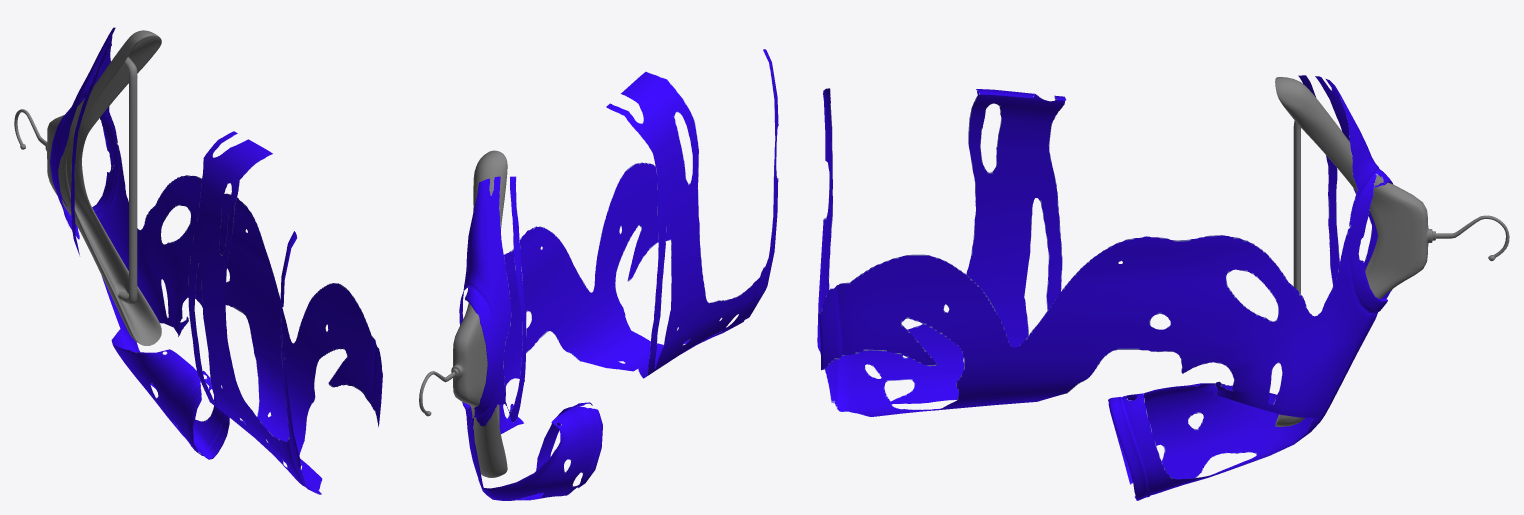
File: shirt.fbx
The picture shows the model from 3 angles, left to right: view 1: azimuth 30°, elevation 25°; view 2: azimuth 150°, elevation 25°; view 3: azimuth 270°, elevation 25°; orthographic projection. The views are drawn at different scales.
Visible parts, largest first — view 1: Shirt; view 2: Shirt; view 3: Shirt.
Part boxes in pixels (x1,y1,x2,y2): Shirt: (14, 27, 382, 494); Shirt: (419, 49, 778, 500); Shirt: (817, 75, 1509, 500).
Size of the model in its own units: 29.24 by 119 by 154.
